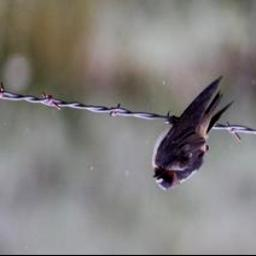Swallow: (150, 75, 235, 193)
